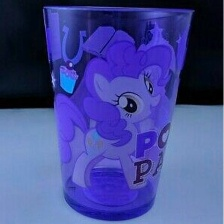glass: (38, 2, 200, 223)
